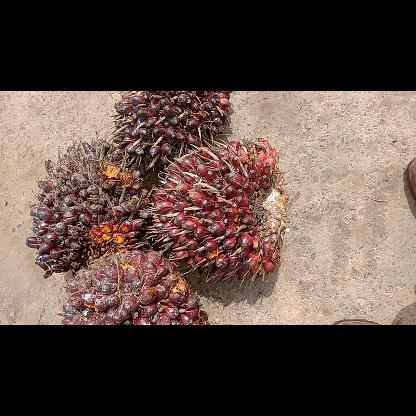Kurang masak: (145, 136, 292, 284), (24, 136, 152, 280)
TBS mentah: (58, 248, 214, 324), (110, 91, 232, 179)
